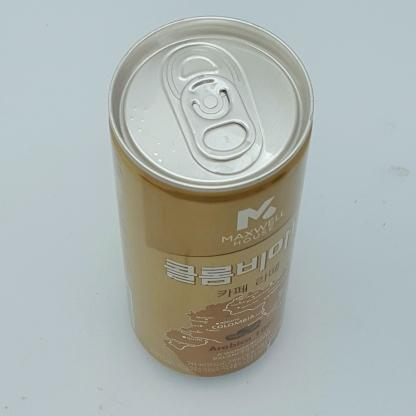-----------------240ML: (108, 15, 314, 377)
